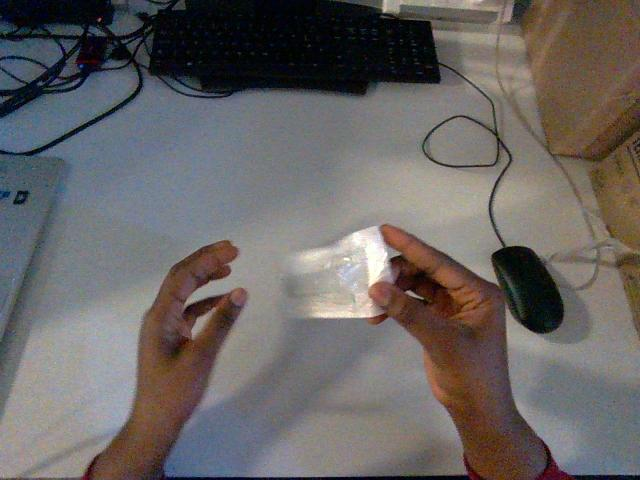syringe: (283, 226, 392, 317)
